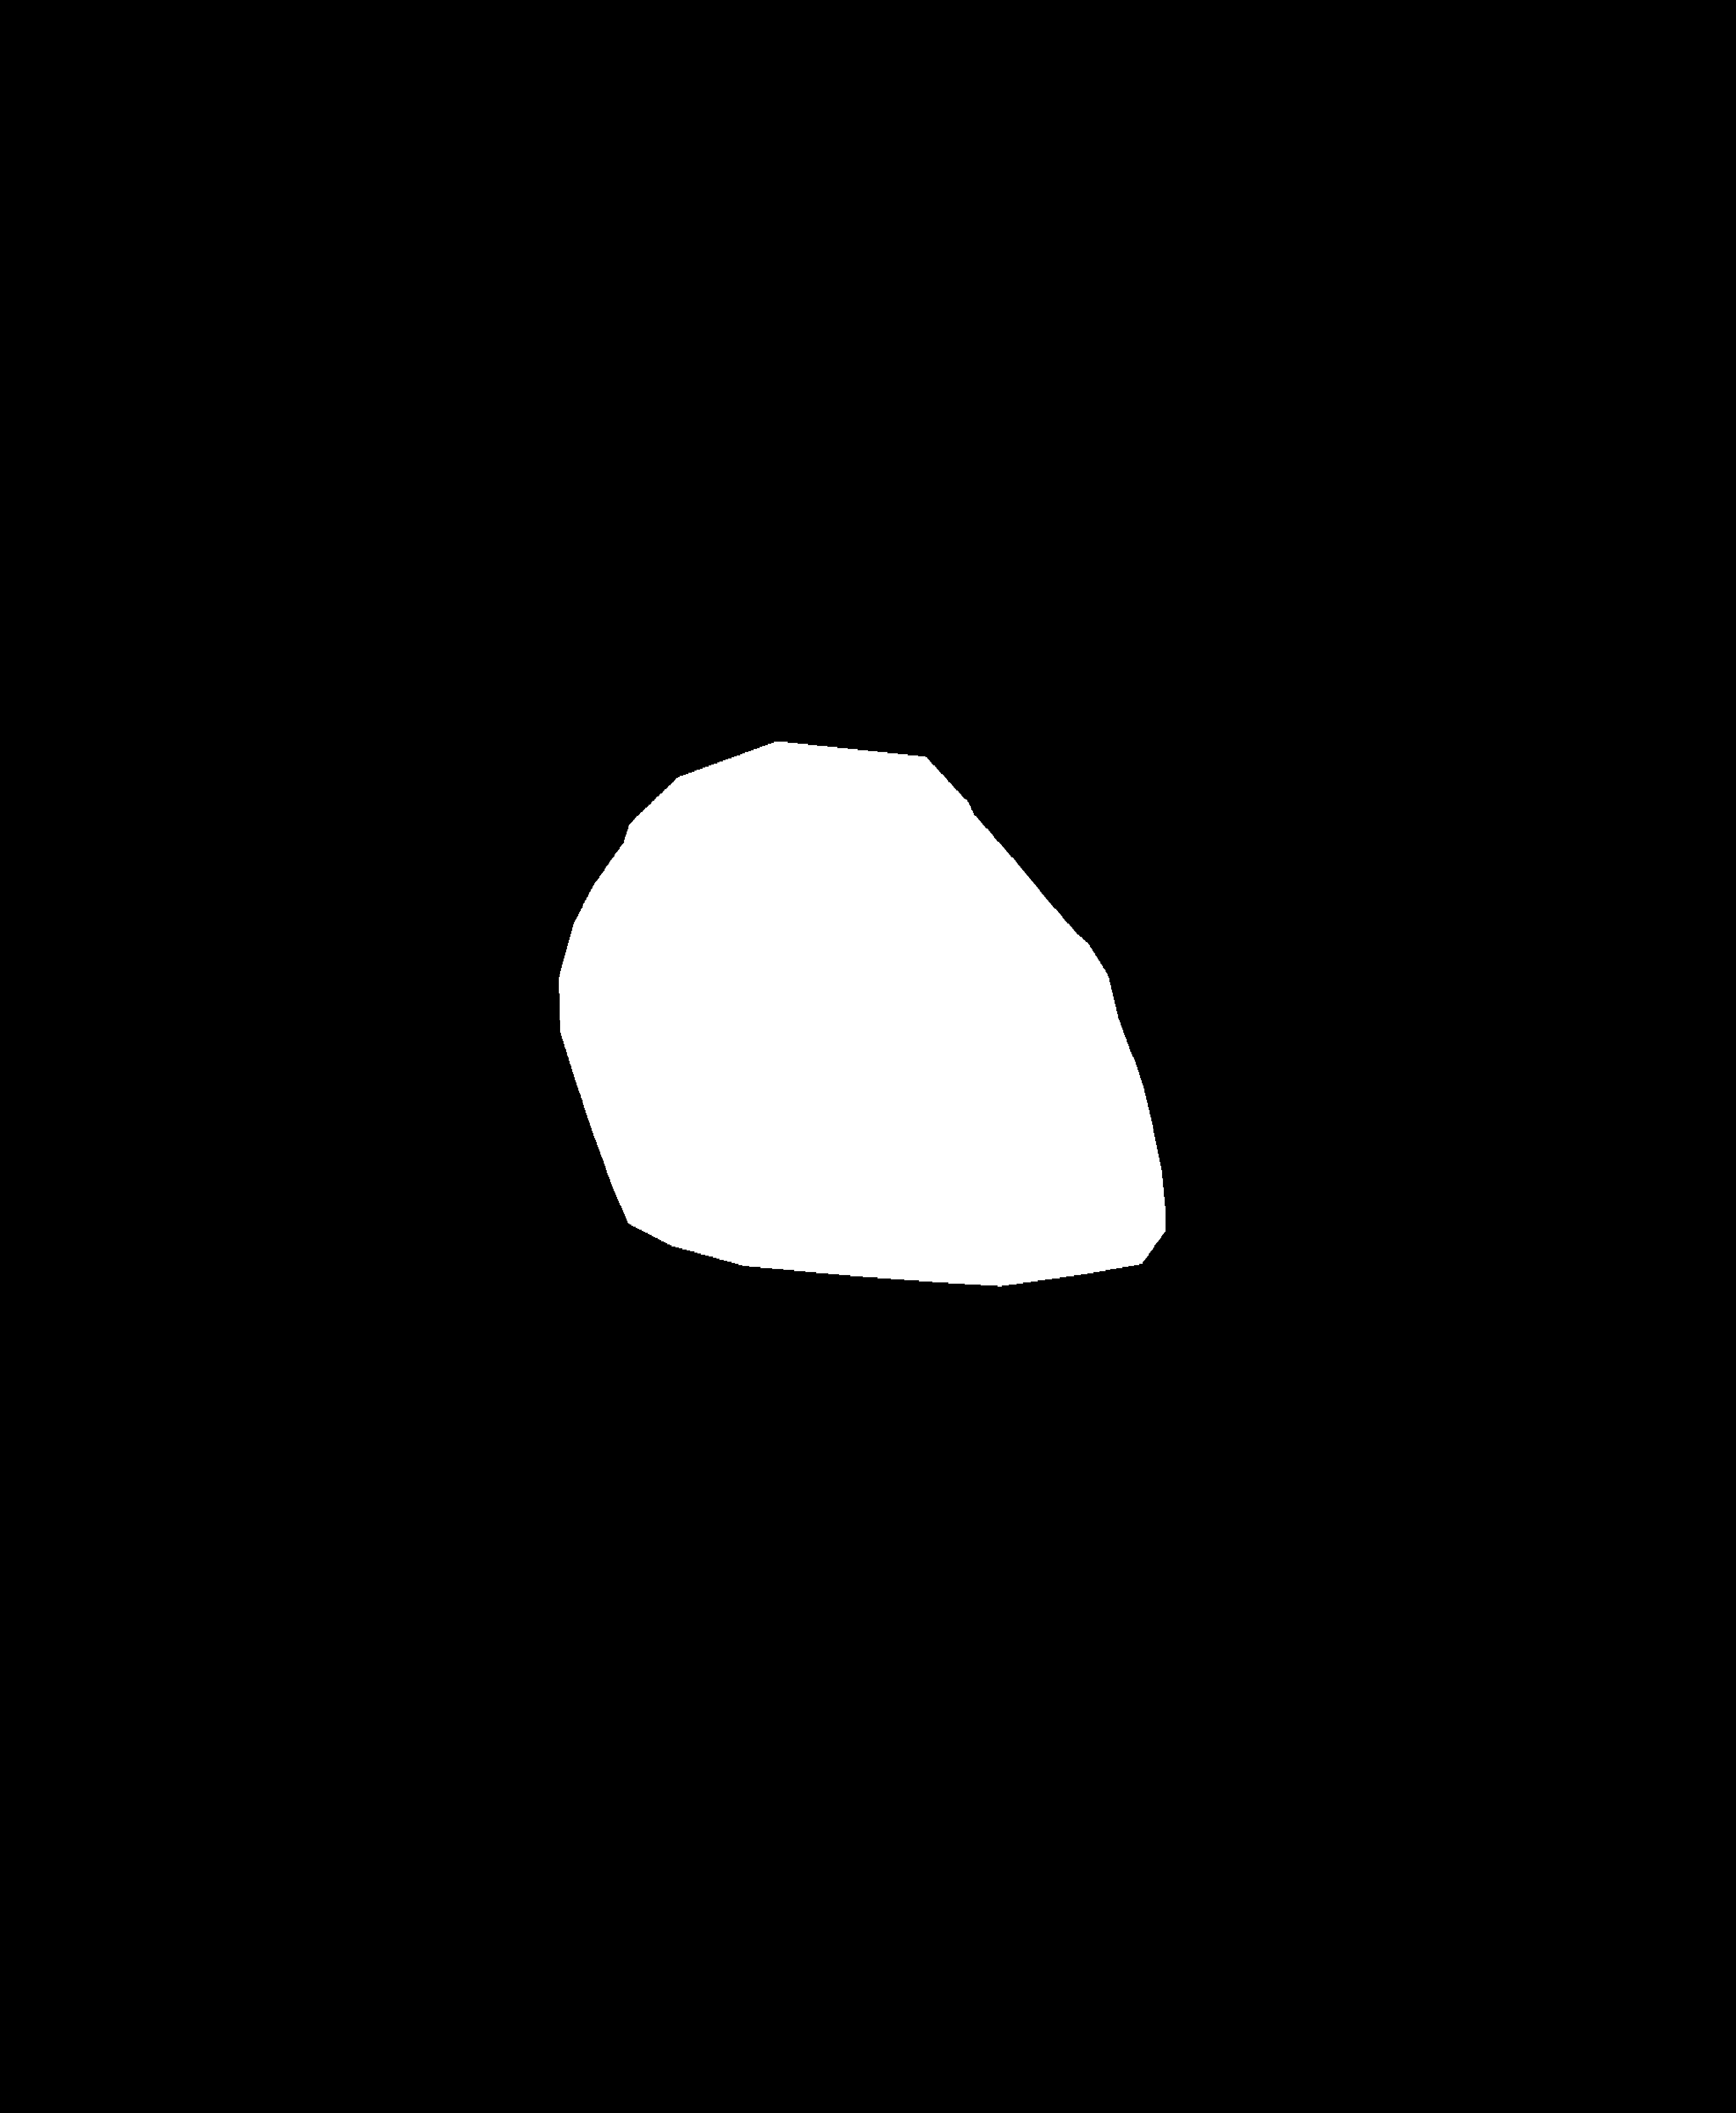heart: (558, 839, 1162, 1362)
left_lung: (97, 163, 721, 1418)
right_lung: (846, 170, 1569, 1385)
